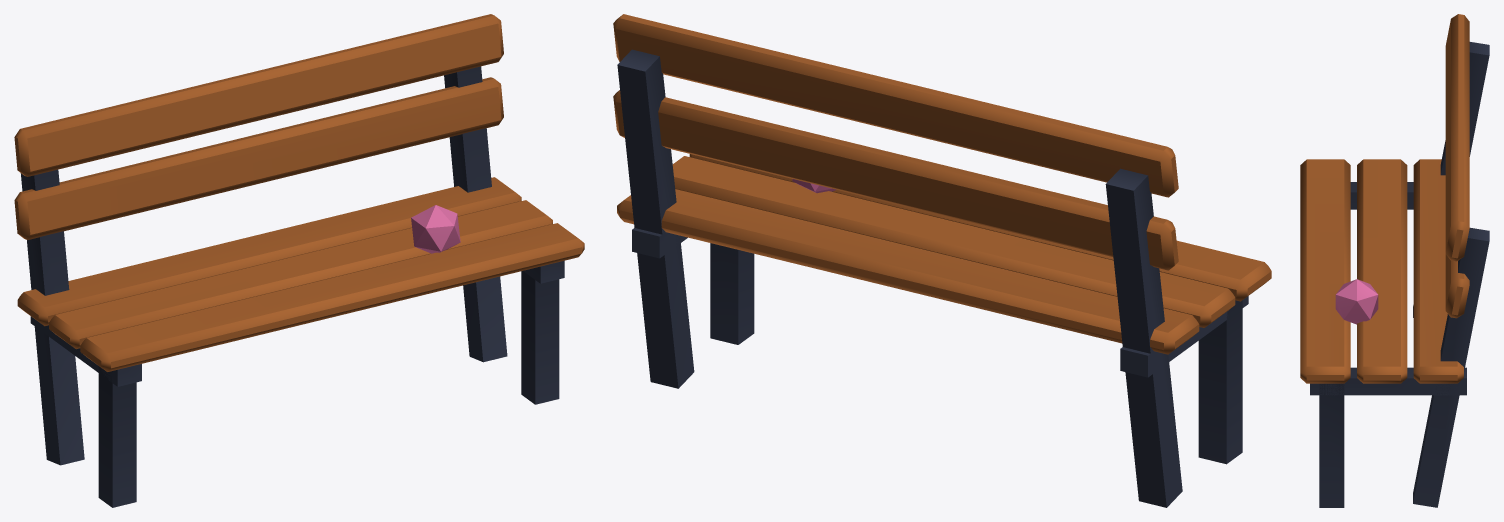
Rendered from b_bank.glb.
3 views of the same model, side by side, from view 1: azimuth 30°, elevation 25°; view 2: azimuth 150°, elevation 25°; view 3: azimuth 270°, elevation 25° (orthographic). The views are drawn at different scales.
Parts seen in each view (by area): view 1: body; view 2: body; view 3: body.
Boxes of the visible parts, x1,y1,x2,y2 form: body: (14, 14, 584, 507); body: (613, 14, 1271, 507); body: (1300, 14, 1489, 507).
Size of the model in its own units: 1.6 by 1.03 by 0.6019.
